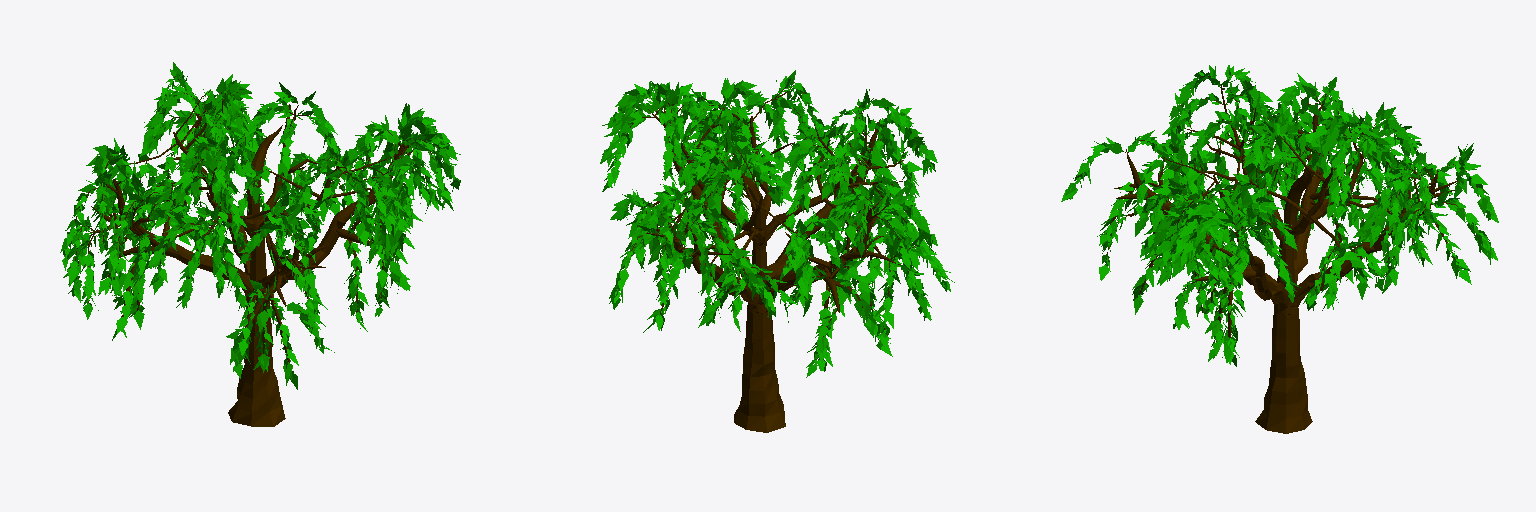
Rendered from tree.obj.
The picture shows the model from 3 angles: view 1: azimuth 30°, elevation 25°; view 2: azimuth 150°, elevation 25°; view 3: azimuth 270°, elevation 25°; orthographic projection.
Bounding box in the file's own units: 2.51 × 2.1 × 2.56.